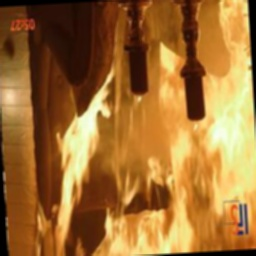fire: (47, 0, 256, 256)
